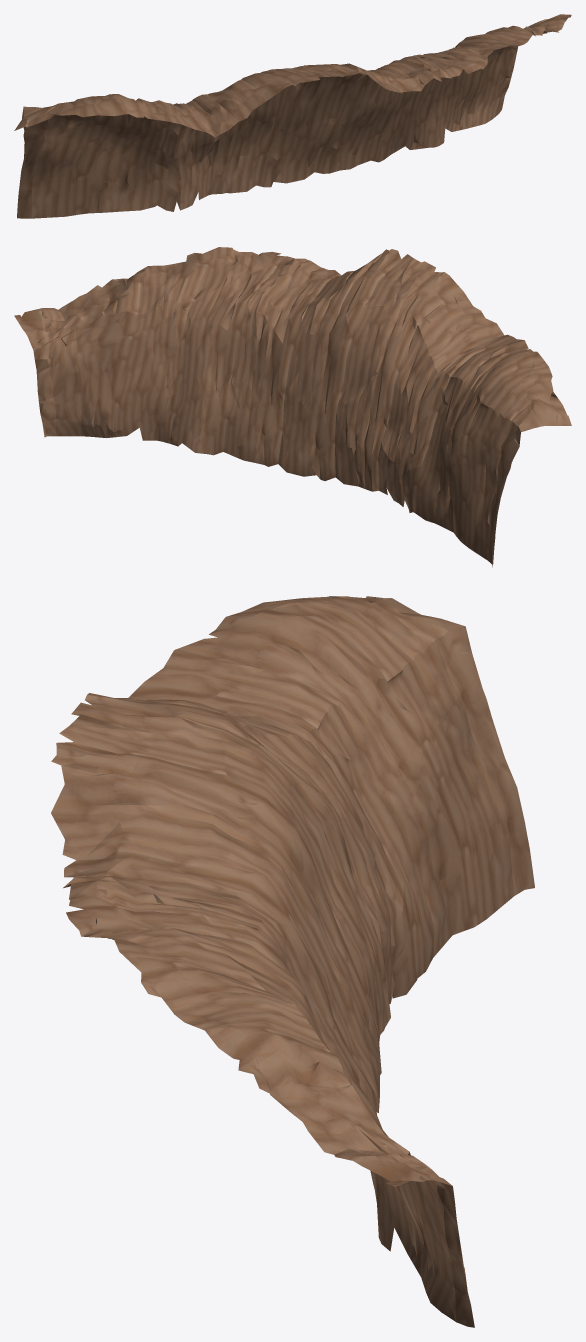
File: SM_ENV_LKNVLD_FaceRock_BG_01.FBX
The picture shows the model from 3 angles, top to bottom: view 1: azimuth 30°, elevation 25°; view 2: azimuth 150°, elevation 25°; view 3: azimuth 270°, elevation 25°; orthographic projection. The views are drawn at different scales.
Parts seen in each view (by area): view 1: SM_ENV_LKNVLD_FaceRock_BG_01; view 2: SM_ENV_LKNVLD_FaceRock_BG_01; view 3: SM_ENV_LKNVLD_FaceRock_BG_01.
Part boxes in pixels (left/top/right/bottom): SM_ENV_LKNVLD_FaceRock_BG_01: left=14, top=14, right=571, bottom=218; SM_ENV_LKNVLD_FaceRock_BG_01: left=14, top=247, right=571, bottom=567; SM_ENV_LKNVLD_FaceRock_BG_01: left=51, top=596, right=534, bottom=1327.
Bounding box in the file's own units: 65203 × 19941 × 24646.
